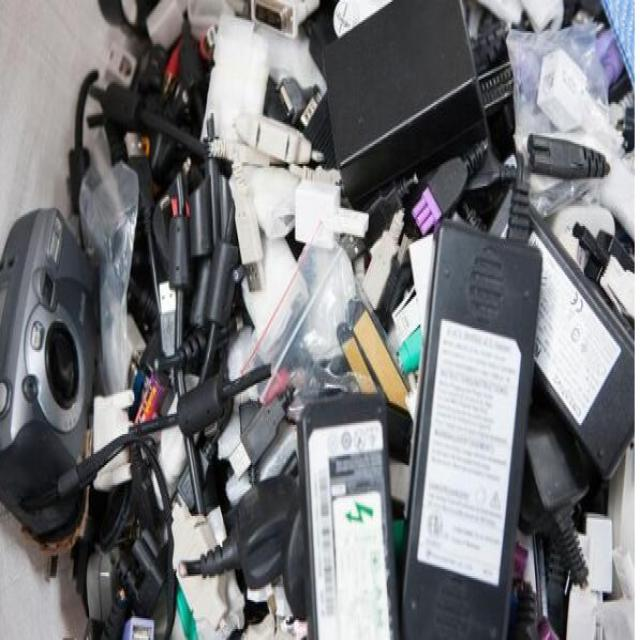electronic: (403, 204, 550, 640), (114, 107, 272, 470), (0, 166, 114, 562), (266, 378, 427, 640), (306, 11, 511, 204), (509, 100, 634, 229), (210, 119, 300, 294)
